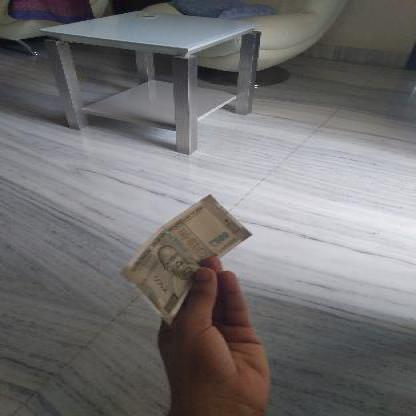New500Front: (113, 194, 256, 322)
